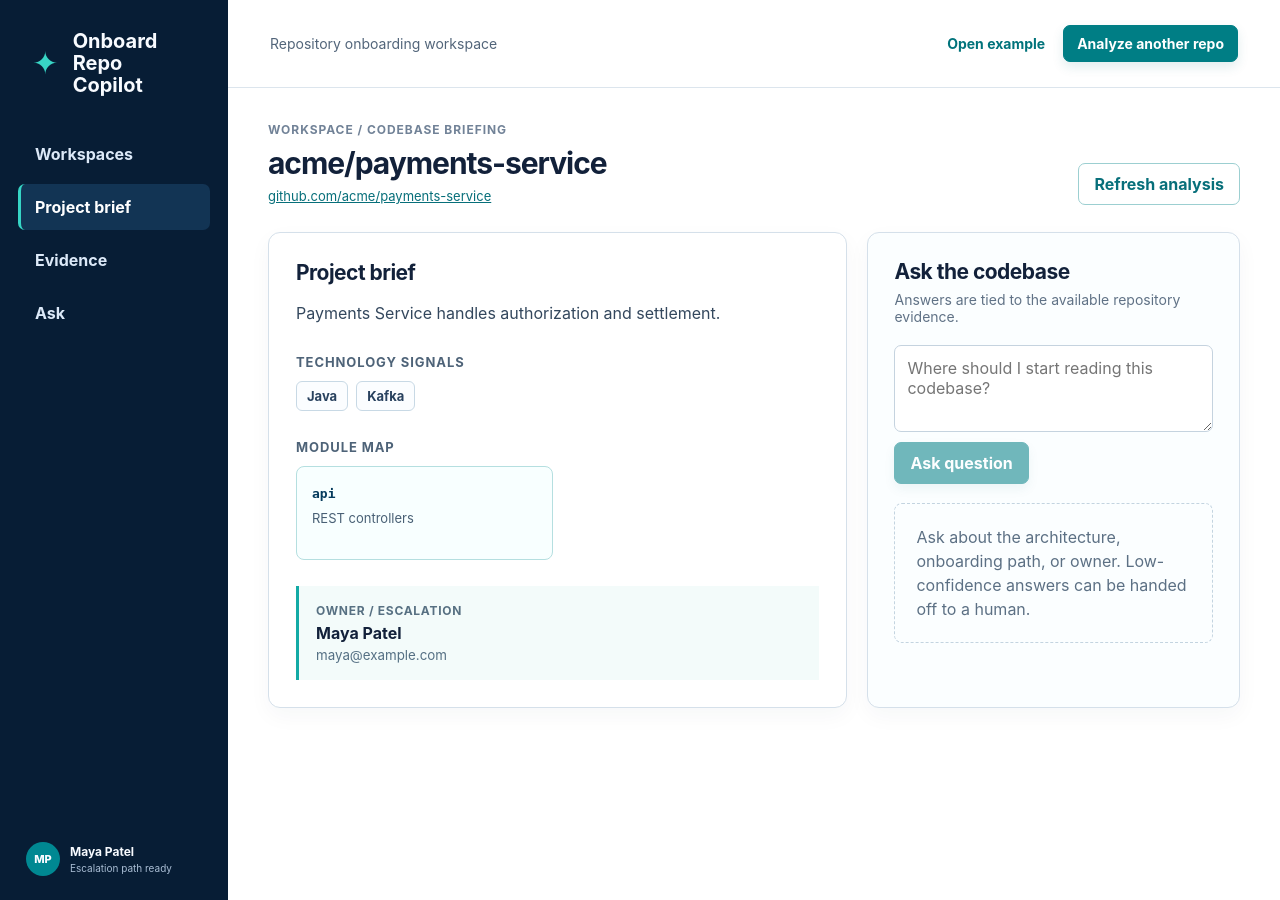
Scenario: Onboard Repo Copilot › asks a question and exposes a human handoff for a low-confidence answer
Expected: the heading "acme/payments-service" is shown, [268,145,607,181]
Type "How does it work?" into the text box with placeholder "Where should I start reading this codebase?" at coordinates (1054, 388), box [894,345,1213,432]
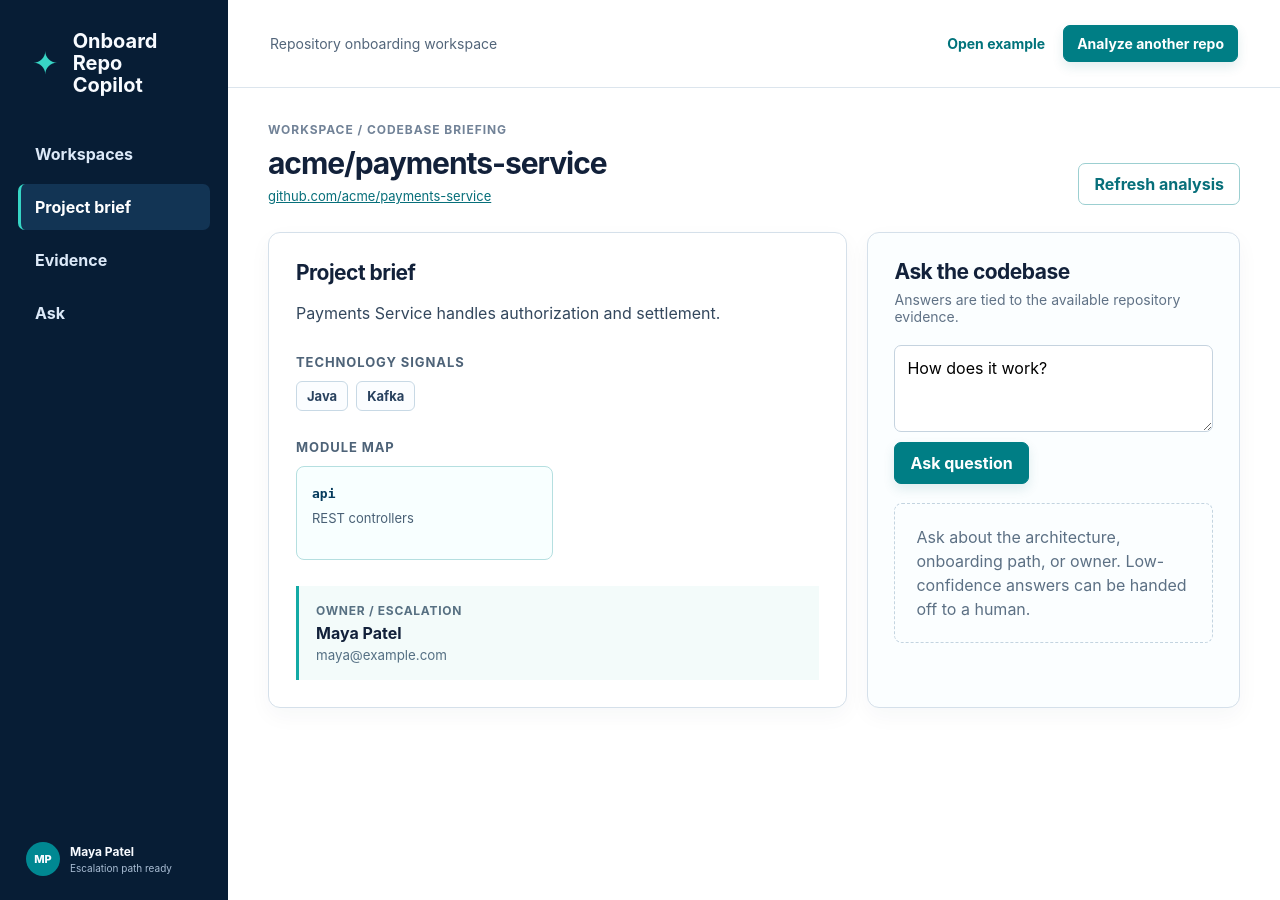
Click the button "Ask question" at coordinates (962, 463), box [894,442,1029,484]
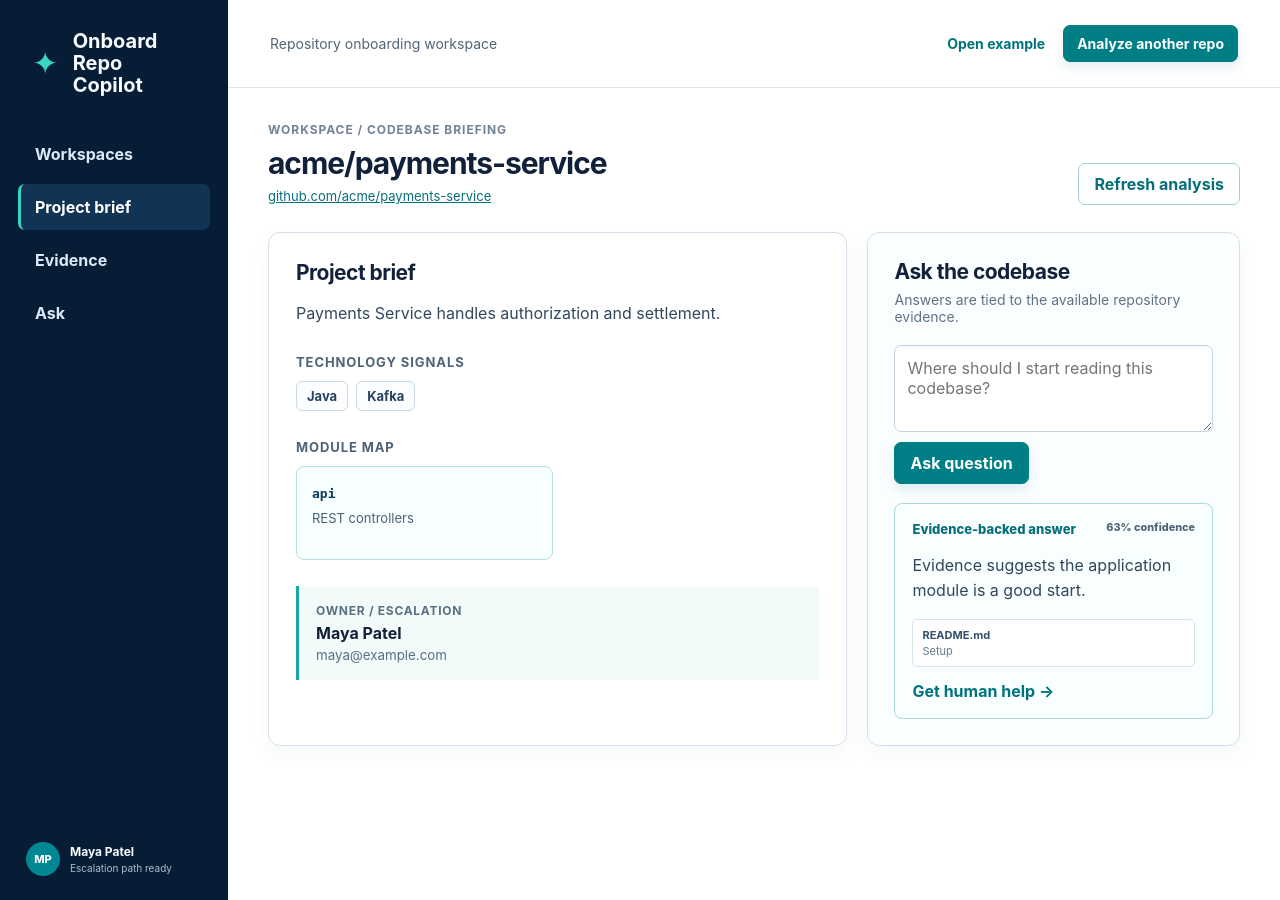
Now the text "Evidence suggests the application module is a good start." is shown, box [912,553,1195,603]
Now the button "Get human help →" is shown, box [912,681,1054,701]
